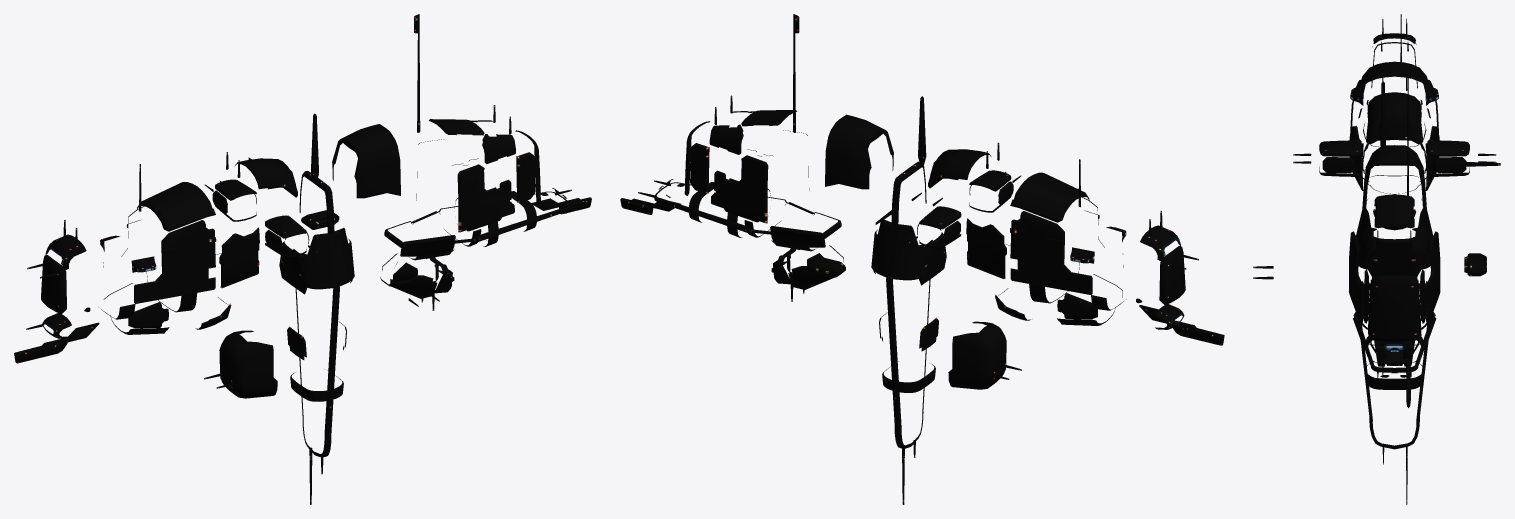
Rendered from yao_station_01.glb.
The picture shows the model from 3 angles, left to right: view 1: azimuth 30°, elevation 25°; view 2: azimuth 150°, elevation 25°; view 3: azimuth 270°, elevation 25°; orthographic projection. The views are drawn at different scales.
Visible parts, largest first — view 1: yao_station_01_base_LOD0, yao_station_01_parts_LOD0; view 2: yao_station_01_base_LOD0, yao_station_01_parts_LOD0; view 3: yao_station_01_base_LOD0, yao_station_01_parts_LOD0.
Part boxes in pixels (box(x1,y1,x2,y2)): yao_station_01_base_LOD0: box(41, 119, 571, 457); yao_station_01_parts_LOD0: box(14, 14, 591, 504); yao_station_01_base_LOD0: box(654, 110, 1185, 448); yao_station_01_parts_LOD0: box(620, 14, 1224, 504); yao_station_01_base_LOD0: box(1319, 33, 1469, 449); yao_station_01_parts_LOD0: box(1253, 14, 1500, 504).
Size of what is drawn, in the model's own units: 97.17 by 73.02 by 33.79.
2 materials, 2 textured.
